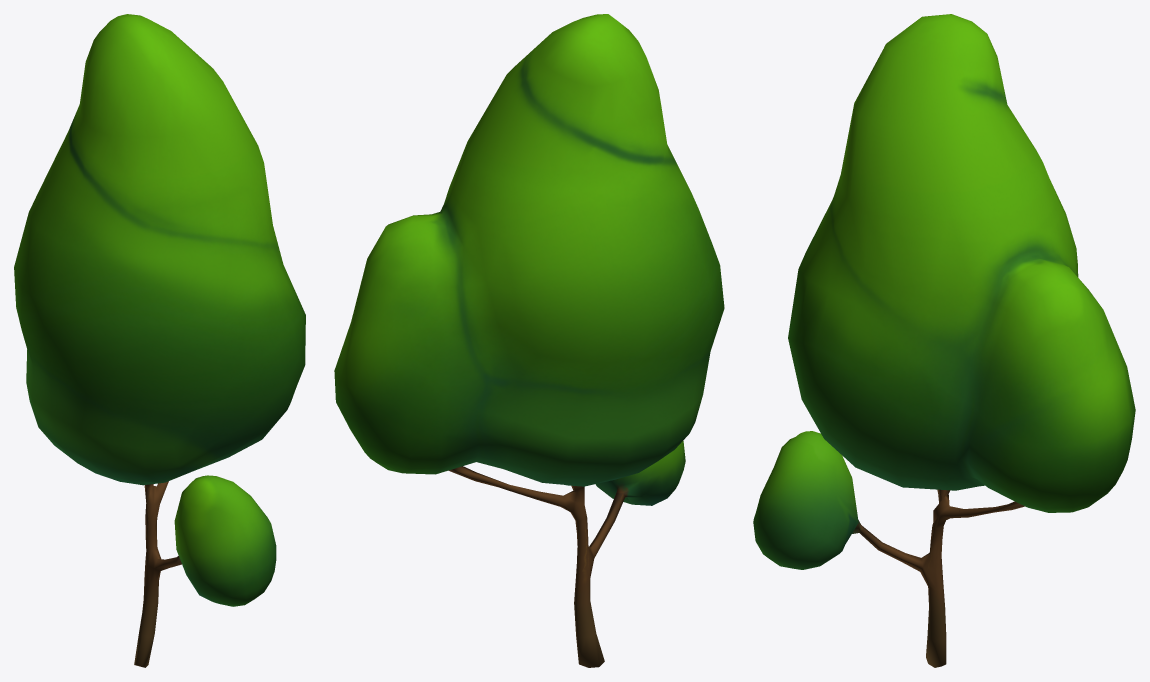
File: SwirlTree.fbx
3 renders of one model, left to right at view 1: azimuth 30°, elevation 25°; view 2: azimuth 150°, elevation 25°; view 3: azimuth 270°, elevation 25°, orthographic.
Parts seen in each view (by area): view 1: SwirlBush; view 2: SwirlBush; view 3: SwirlBush.
Part boxes in pixels (box(x1,y1,x2,y2)): SwirlBush: box(14, 14, 305, 667); SwirlBush: box(334, 14, 724, 667); SwirlBush: box(753, 14, 1135, 667).
Size of the model in its own units: 103 by 215 by 115.
1 material, 1 textured.
